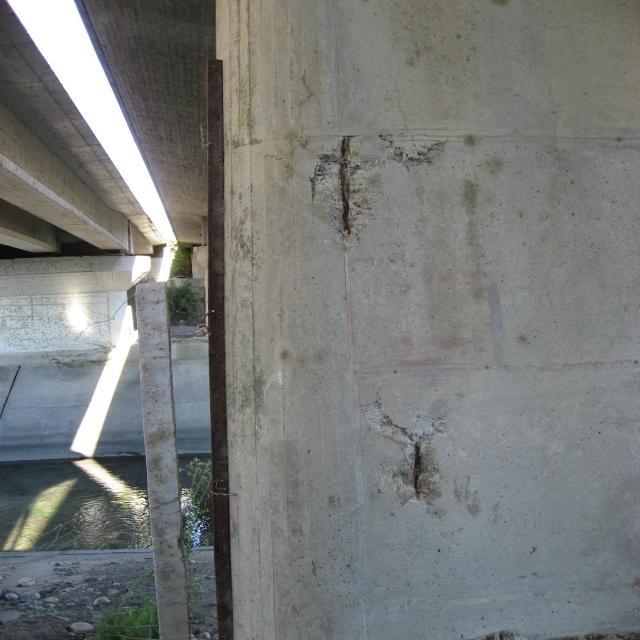corrosion: (195, 54, 257, 640), (310, 114, 382, 244), (389, 435, 449, 501)
